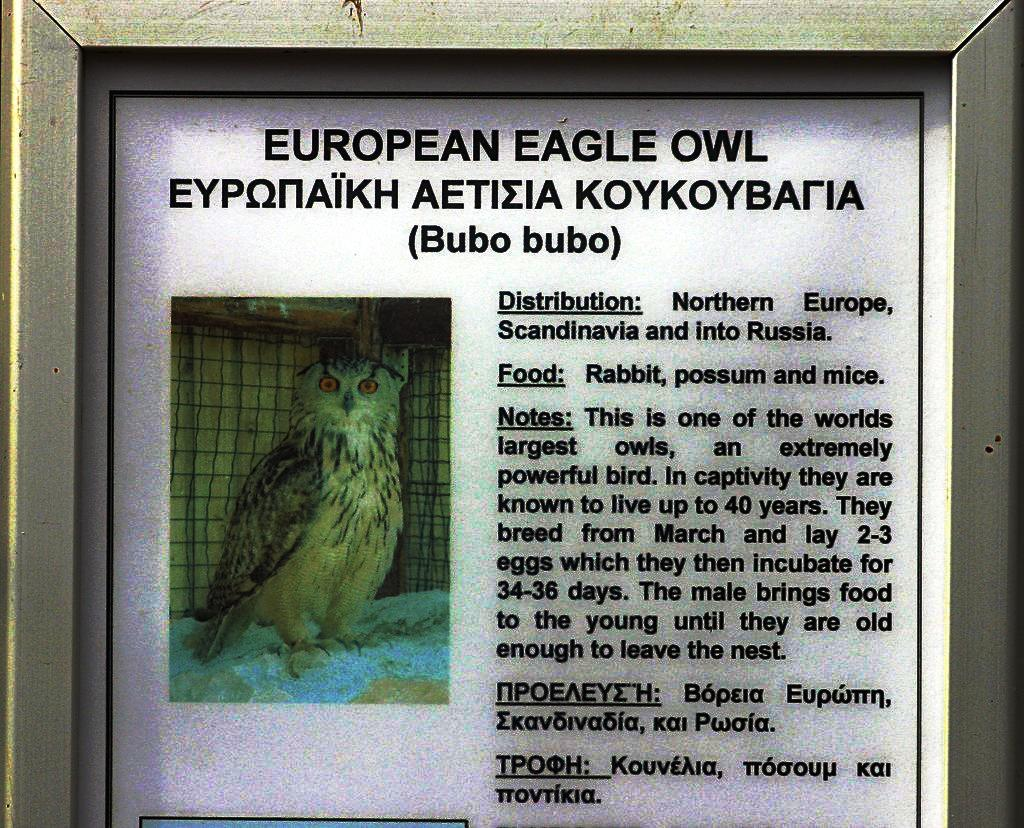Owl: (190, 347, 418, 658)
